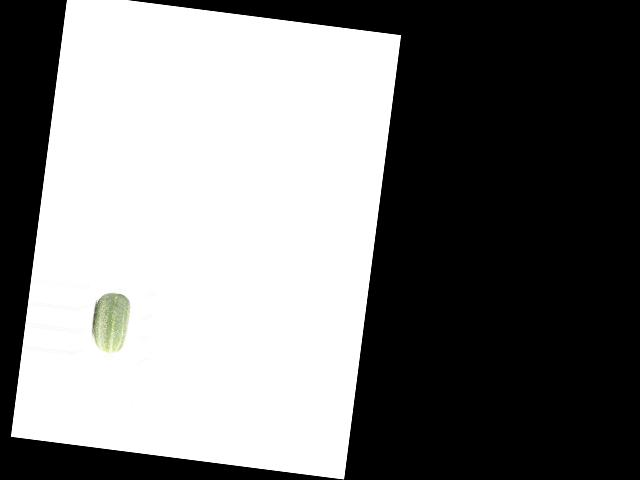cucumber: (89, 290, 131, 354)
